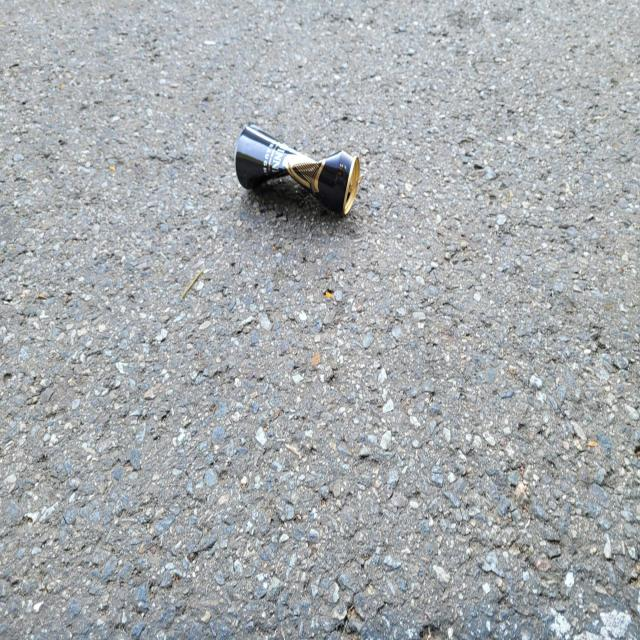can: (235, 124, 360, 215)
